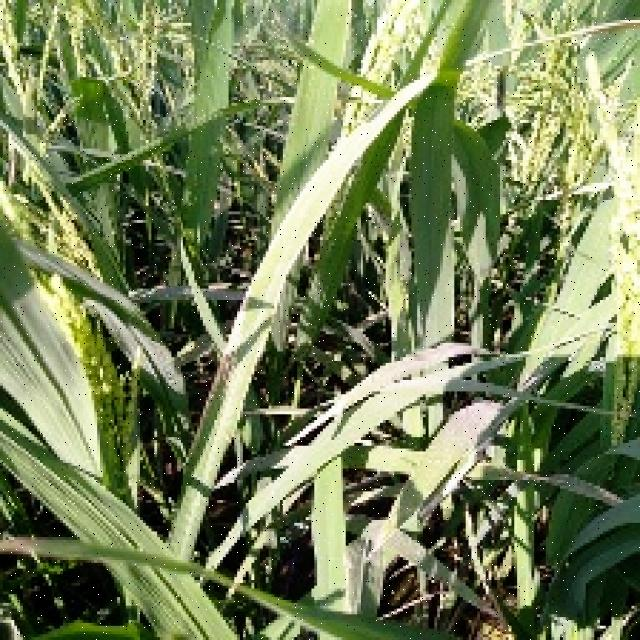health: (243, 0, 640, 457)
